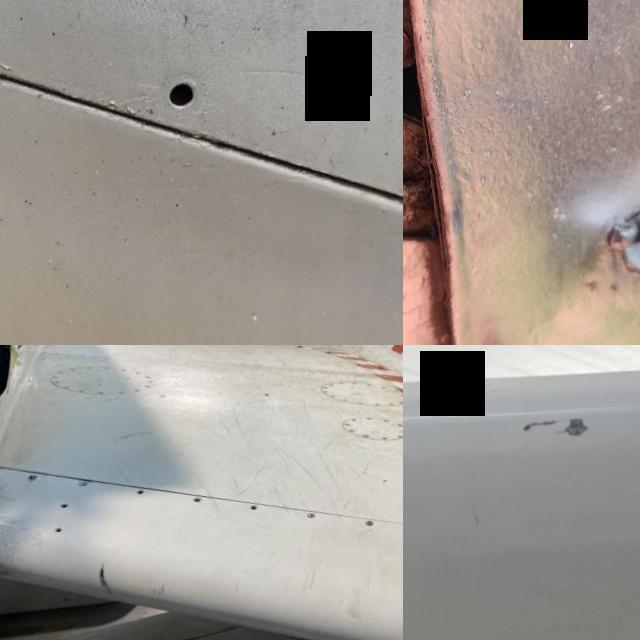Missing_Fastener: (131, 51, 224, 150), (134, 491, 146, 498), (249, 507, 259, 515), (192, 499, 202, 506), (54, 527, 64, 534), (60, 504, 68, 510)
